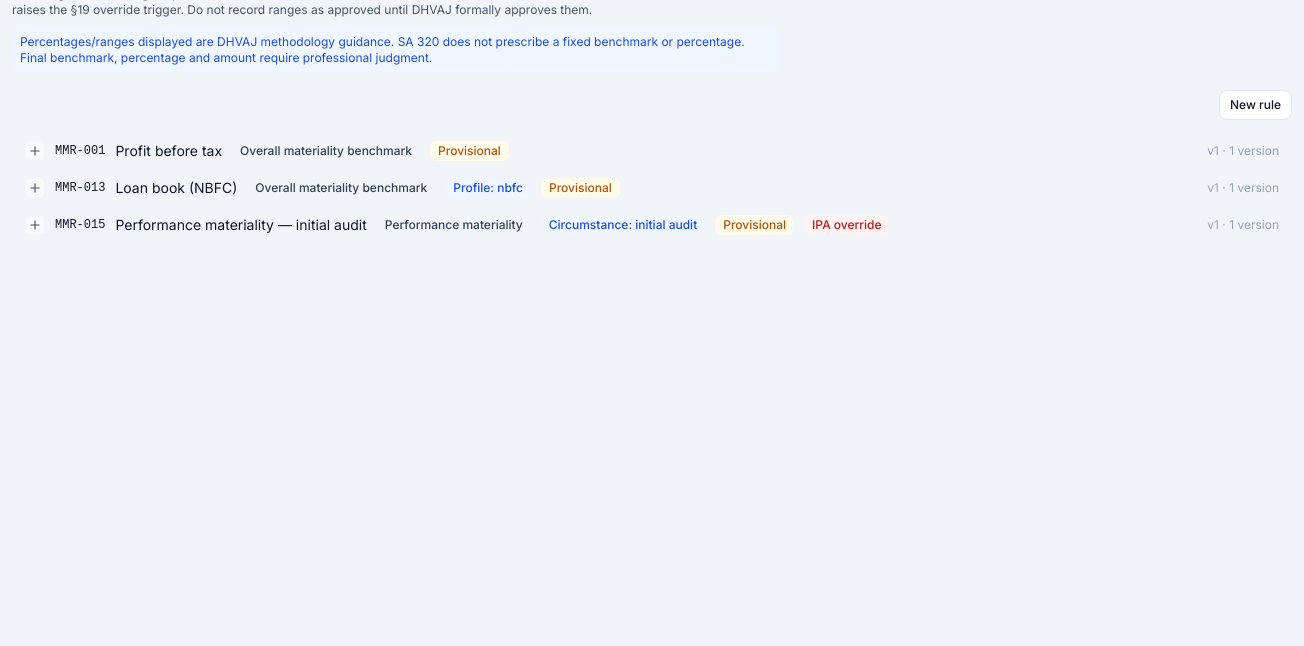
Scenario: Materiality Methodology Library administration › lists rules as guidance with applicability, provisional flag and the IPA override
The width and height of the screenshot is (1304, 646).
Expected: the text "Profit before tax" is shown, [115,141,222,161]
Expected: the text "SA 320" is shown, [20,34,745,65]
Click the button "MMR-013".
click(80, 188)  # box [25,178,1279,198]
(page scrolled)
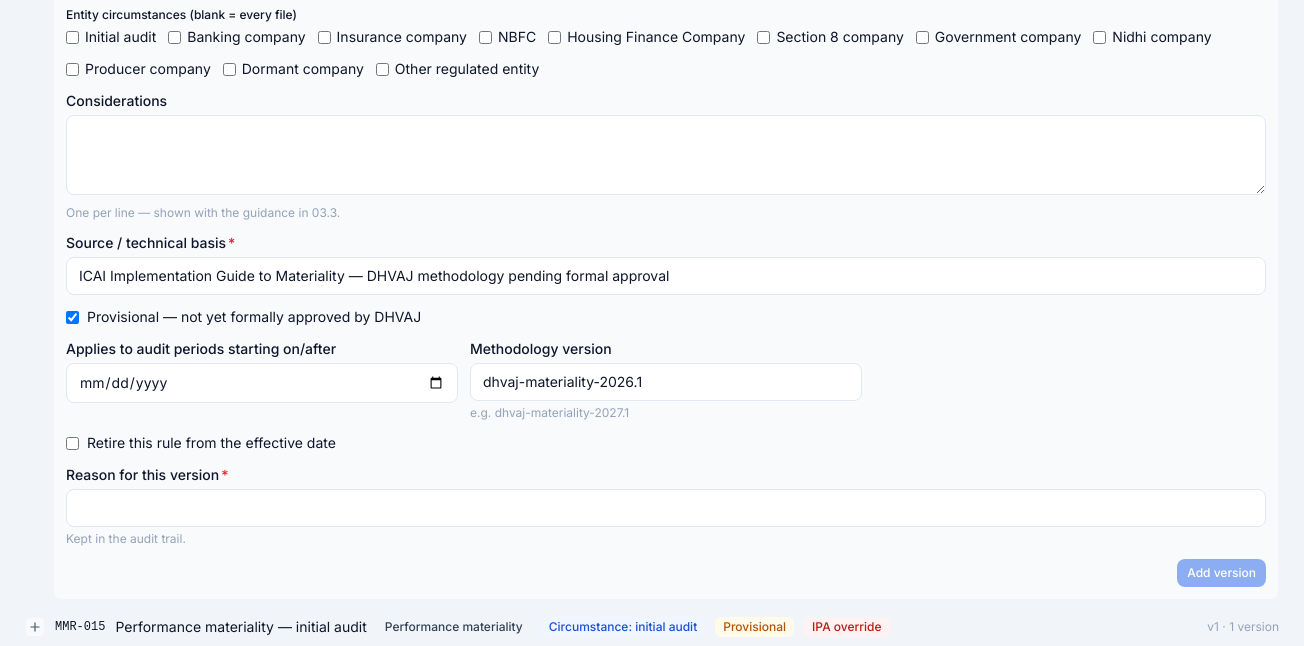
Click the button "MMR-015".
click(652, 627)  # box [25,617,1279,637]
(page scrolled)
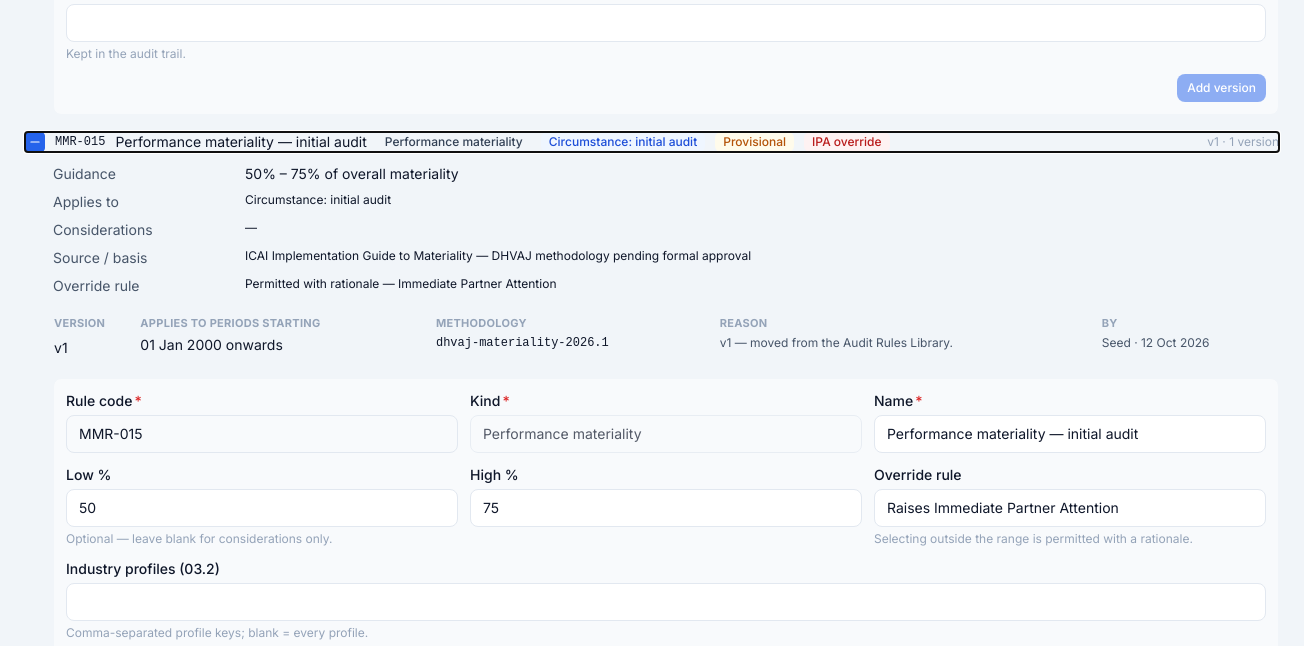
Result: the text "Permitted with rationale — Immediate Partner Attention" is shown at [245,276,556,291]
